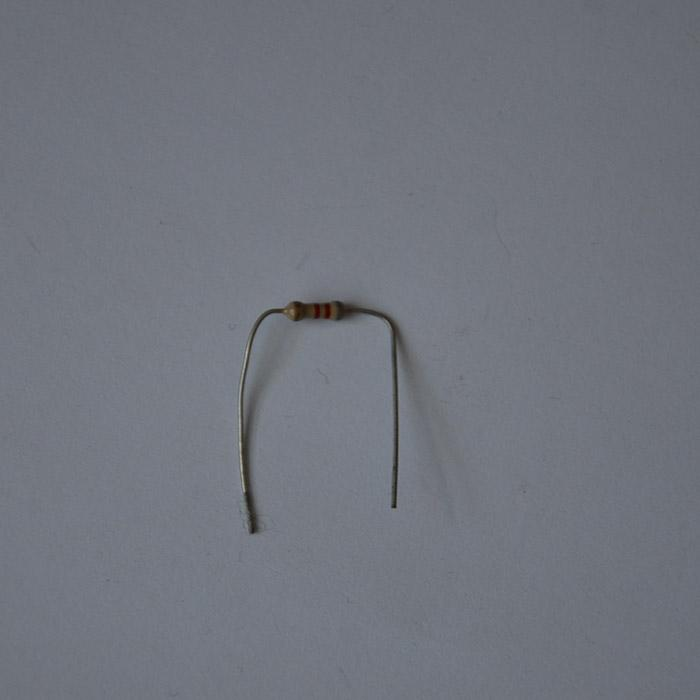resistor: (283, 299, 341, 321)
